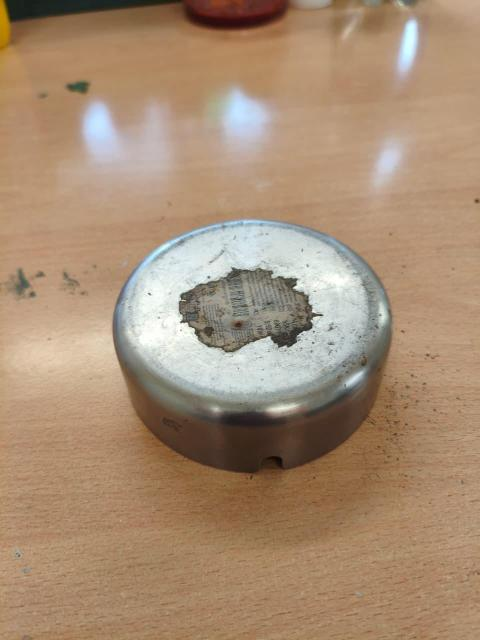Kagit: (178, 275, 308, 345)
Metal: (120, 190, 403, 485)
